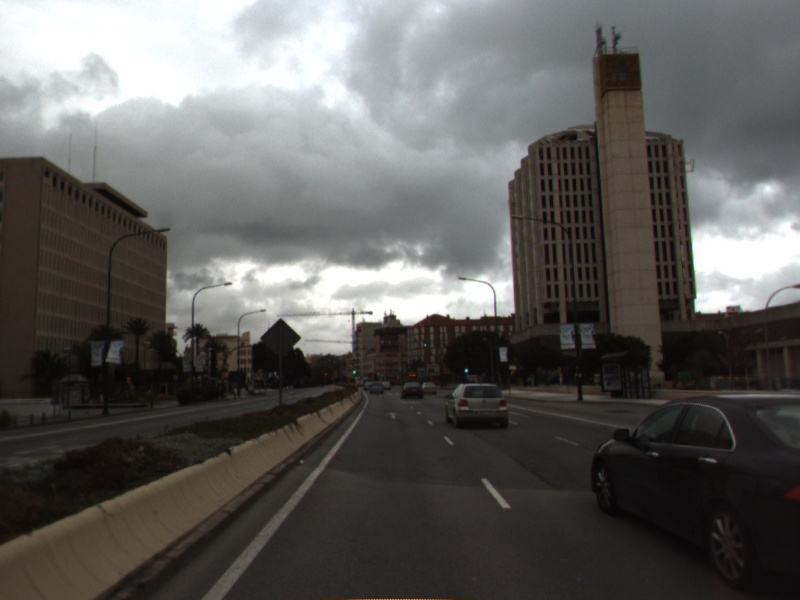STRAIGHT: (383, 410, 403, 420)
